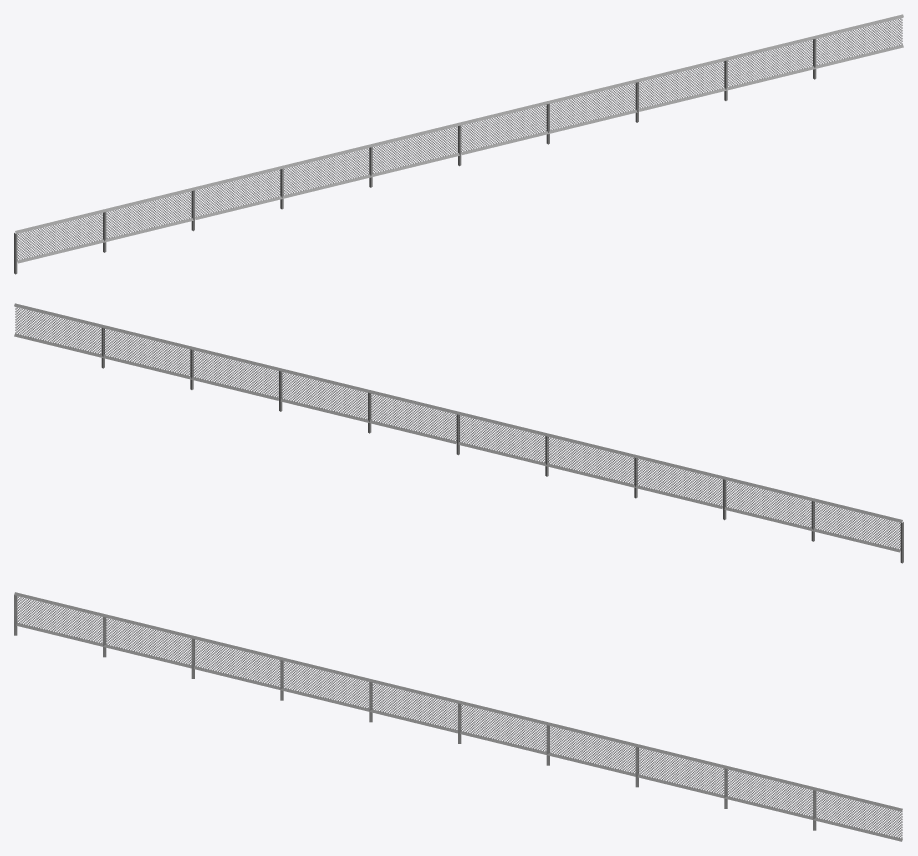
Rendered from fence-chainlink-2rail-10s-cbj_LOD01.gltf.
3 views of the same model, one above another, from view 1: azimuth 30°, elevation 25°; view 2: azimuth 150°, elevation 25°; view 3: azimuth 330°, elevation 25° (orthographic).
Parts seen in each view (by area): view 1: chainlink01; view 2: chainlink01; view 3: chainlink01.
Boxes of the visible parts, box(x1,y1,x2,y2) form: chainlink01: box(14, 14, 903, 274); chainlink01: box(14, 303, 903, 563); chainlink01: box(14, 592, 902, 841).
Bounding box in the file's own units: 28.71 × 1.33 × 0.11.
